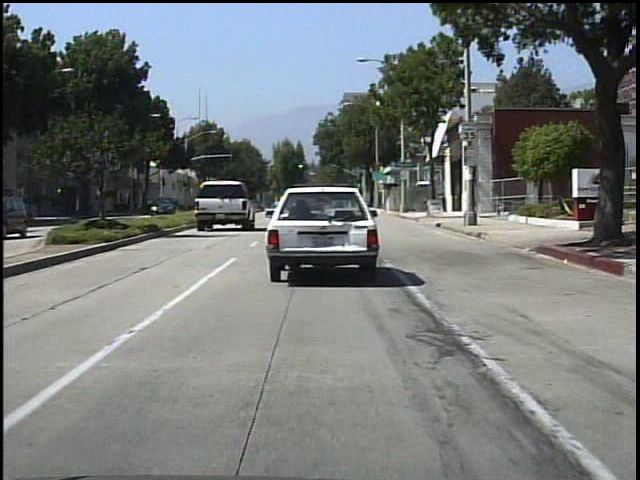person: (96, 193, 113, 221), (147, 195, 155, 216)
